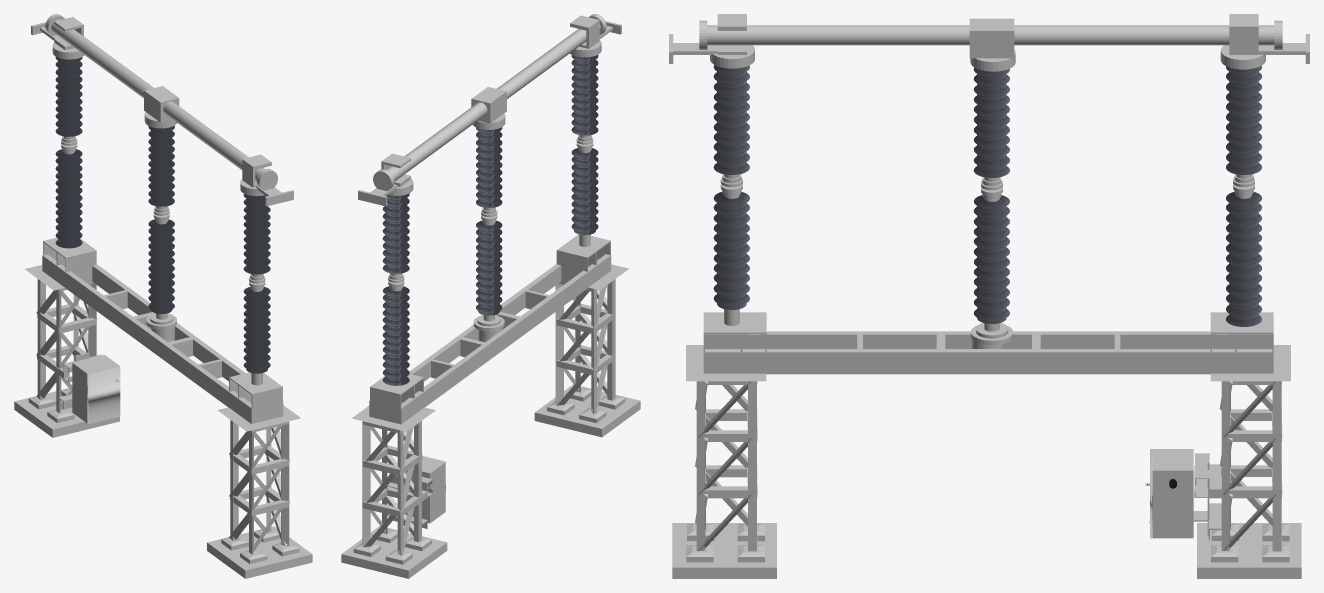
The model's file is CajaTorre.fbx.
3 renders of one model, left to right at view 1: azimuth 30°, elevation 25°; view 2: azimuth 150°, elevation 25°; view 3: azimuth 270°, elevation 25°, orthographic. The views are drawn at different scales.
Parts seen in each view (by area): view 1: Cylinder.008, Cube.078, Cubo.001; view 2: Cylinder.008, Cube.078; view 3: Cylinder.008, Cube.078.
Boxes of the visible parts, x1,y1,x2,y2 form: Cylinder.008: (14,17,312,578); Cube.078: (45,14,277,329); Cubo.001: (87,366,120,424); Cylinder.008: (341,15,640,578); Cube.078: (373,14,606,331); Cylinder.008: (669,14,1309,578); Cube.078: (699,18,1282,345).
Bounding box in the file's own units: 125 × 700 × 758.
